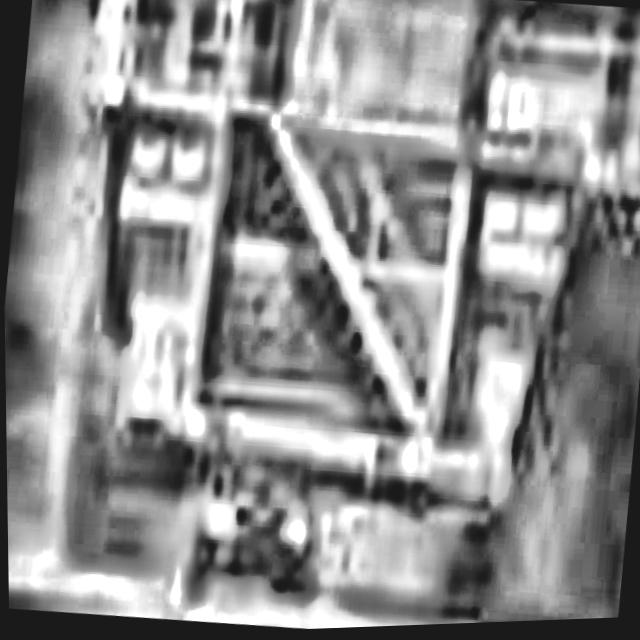dump_truck: (13, 0, 640, 640)
